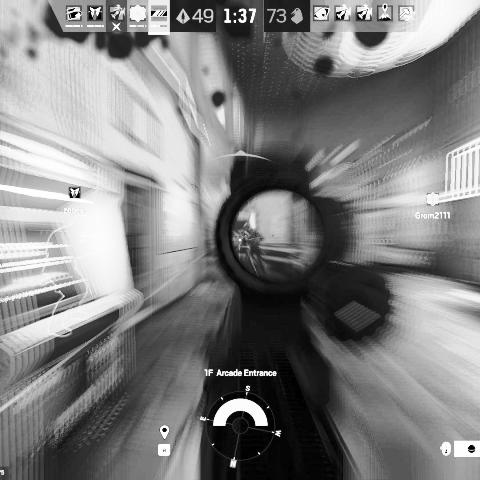Character: (241, 222, 267, 279)
Friend_label: (415, 191, 451, 220), (63, 185, 87, 216)
Head: (243, 223, 250, 232)
